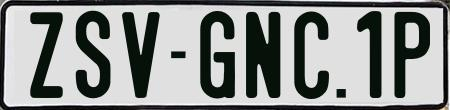1: (356, 9, 381, 102)
C: (293, 8, 328, 102)
G: (199, 10, 238, 99)
N: (244, 10, 281, 97)
P: (394, 10, 430, 100)
S: (75, 8, 111, 98)
V: (122, 12, 166, 99)
Z: (29, 10, 62, 101)
